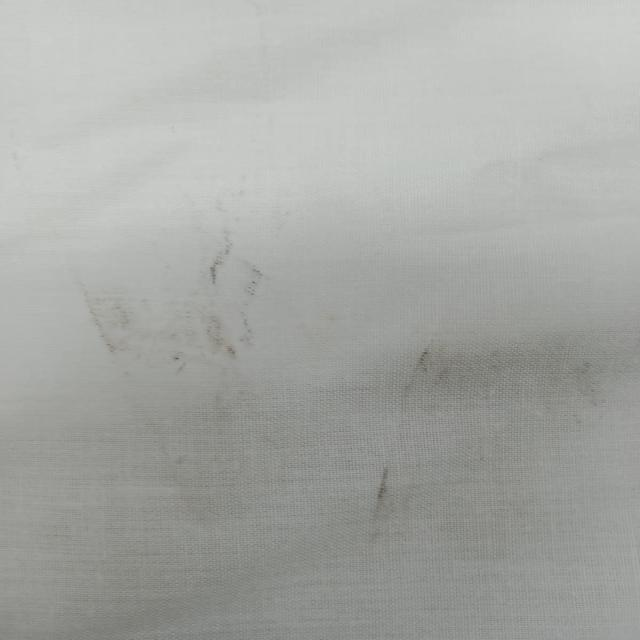stain: (345, 319, 625, 555), (96, 227, 268, 534)
